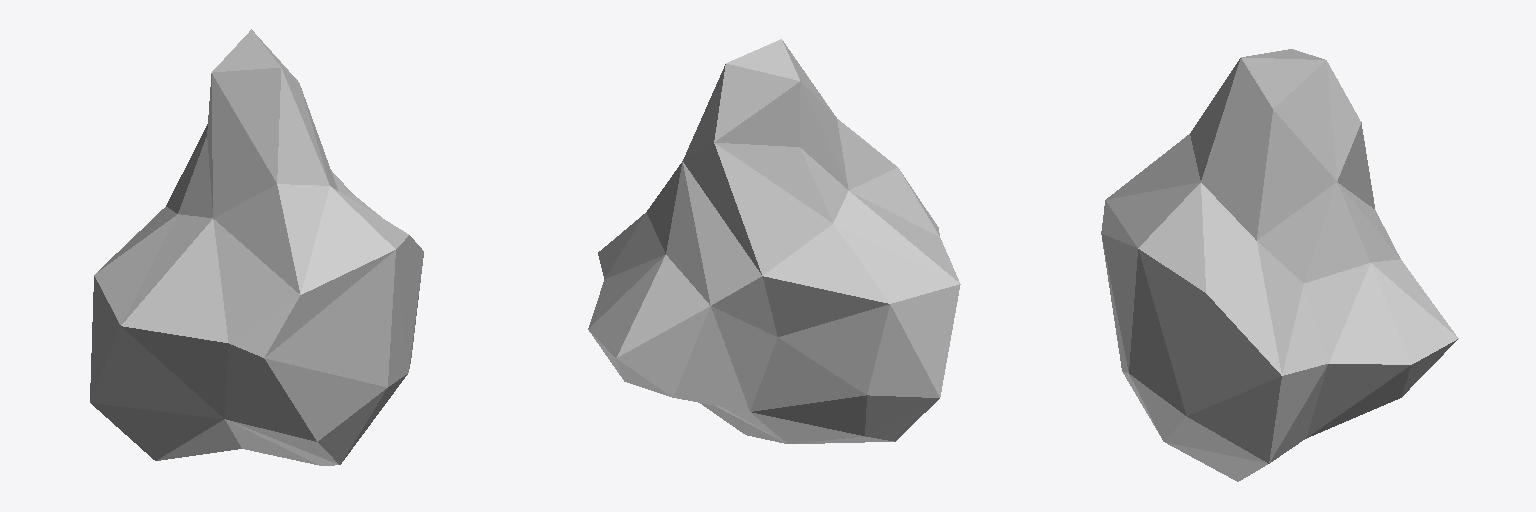
3 views of the same model, side by side, from view 1: azimuth 30°, elevation 25°; view 2: azimuth 150°, elevation 25°; view 3: azimuth 270°, elevation 25° (orthographic).
Visible parts, largest first — view 1: rock.001; view 2: rock.001; view 3: rock.001.
Part boxes in pixels (x1,y1,x2,y2): rock.001: (90, 29, 423, 465); rock.001: (588, 39, 960, 443); rock.001: (1101, 49, 1458, 481).
Bounding box in the file's own units: 0.8846 × 1.02 × 0.8094.